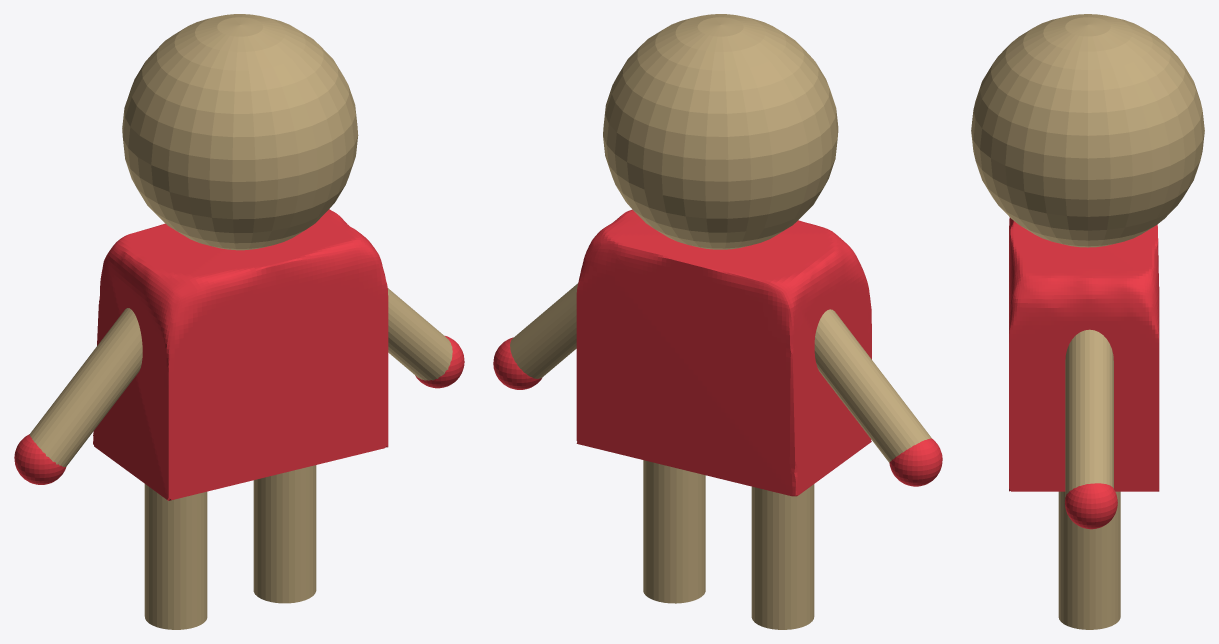
The model's file is Red playerr.fbx.
3 renders of one model, left to right at view 1: azimuth 30°, elevation 25°; view 2: azimuth 150°, elevation 25°; view 3: azimuth 270°, elevation 25°, orthographic.
Visible parts, largest first — view 1: Cube, Sphere, Cylinder, Cylinder.001, Cylinder.003, Cylinder.002, Sphere.003, Sphere.002; view 2: Cube, Sphere, Cylinder, Cylinder.001, Cylinder.003, Cylinder.002, Sphere.003, Sphere.002; view 3: Sphere, Cube, Cylinder.002, Cylinder.001, Sphere.002.
Part boxes in pixels (x1=…): Cube: x1=93, y1=209, x2=388, y2=500; Sphere: x1=122, y1=14, x2=358, y2=250; Cylinder: x1=144, y1=484, x2=207, y2=629; Cylinder.001: x1=253, y1=465, x2=316, y2=603; Cylinder.003: x1=29, y1=308, x2=142, y2=466; Cylinder.002: x1=388, y1=288, x2=452, y2=380; Sphere.003: x1=14, y1=434, x2=66, y2=484; Sphere.002: x1=415, y1=336, x2=464, y2=388; Cube: x1=576, y1=209, x2=871, y2=496; Sphere: x1=603, y1=14, x2=838, y2=249; Cylinder: x1=751, y1=484, x2=814, y2=629; Cylinder.001: x1=643, y1=460, x2=705, y2=603; Cylinder.003: x1=814, y1=309, x2=931, y2=462; Cylinder.002: x1=510, y1=283, x2=578, y2=378; Sphere.003: x1=889, y1=438, x2=942, y2=486; Sphere.002: x1=493, y1=337, x2=542, y2=389; Sphere: x1=971, y1=14, x2=1204, y2=247; Cube: x1=1009, y1=217, x2=1159, y2=491; Cylinder.002: x1=1065, y1=329, x2=1113, y2=496; Cylinder.001: x1=1058, y1=491, x2=1120, y2=629; Sphere.002: x1=1065, y1=483, x2=1117, y2=529.
Bounding box in the file's own units: 519 × 646 × 240.
